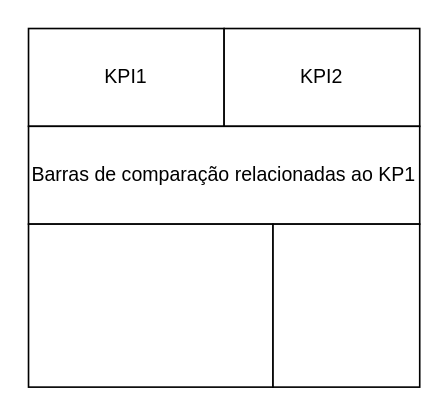
Some shapes in this 448 by 416 pixel diagram are drawn without their labels. The box of each missing label's shape, as (x1, y1, x2, y2) in pixels:
Filtros: (271, 222, 420, 387)
Timeline - Linhas temporais: (27, 222, 273, 387)
